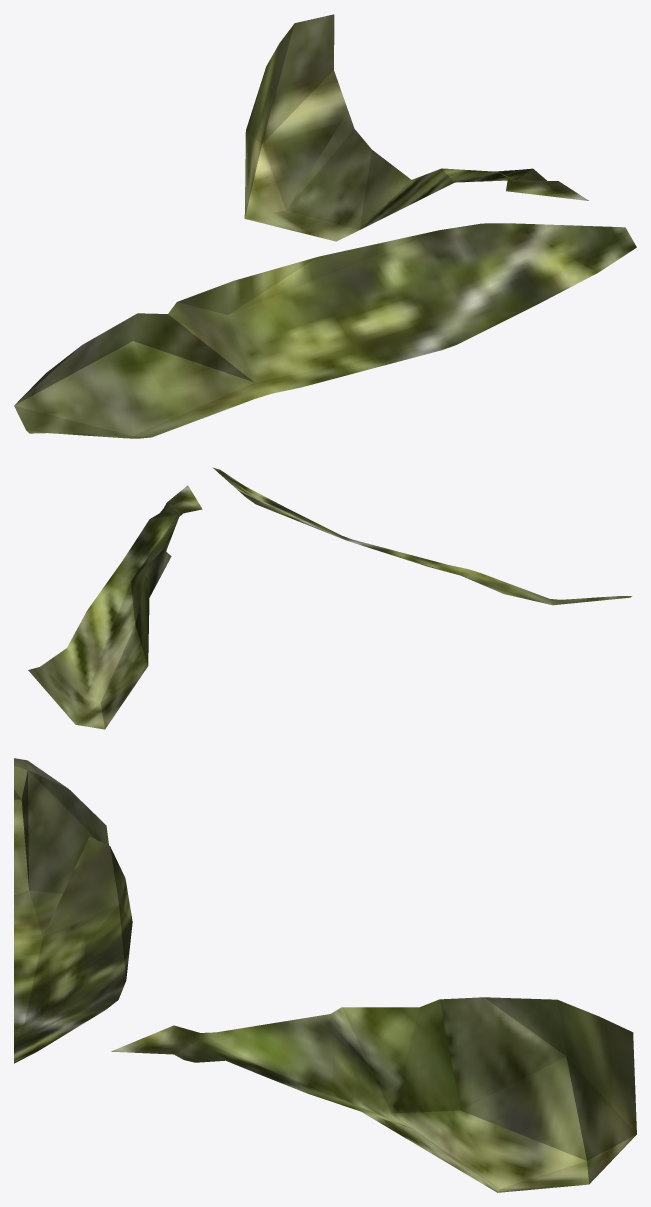
3 views of the same model, one above another, from view 1: azimuth 30°, elevation 25°; view 2: azimuth 150°, elevation 25°; view 3: azimuth 270°, elevation 25° (orthographic). The views are drawn at different scales.
Size of the model in its own units: 1.12 by 0.2874 by 0.9637.
Materials: 1 (1 with a texture image).
